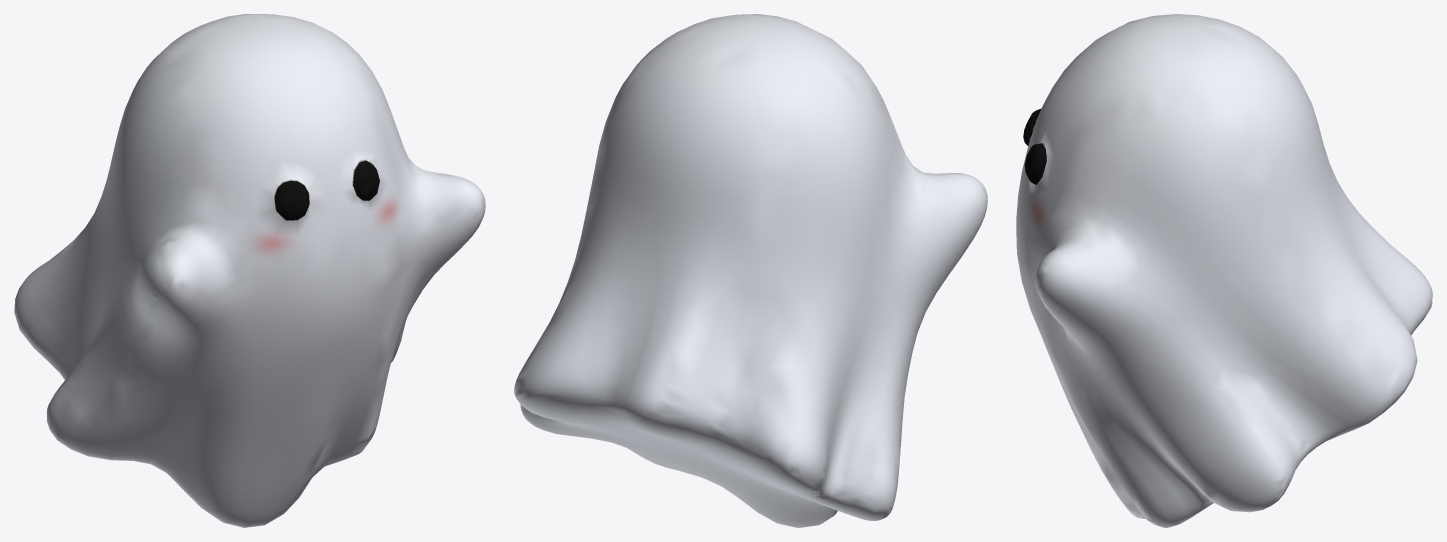
File: enemy.glb
3 views of the same model, side by side, from view 1: azimuth 30°, elevation 25°; view 2: azimuth 150°, elevation 25°; view 3: azimuth 270°, elevation 25° (orthographic). The views are drawn at different scales.
Visible parts, largest first — view 1: Mesh_0; view 2: Mesh_0; view 3: Mesh_0.
Part boxes in pixels (bbox=[...]): Mesh_0: bbox=[14, 14, 485, 527]; Mesh_0: bbox=[514, 14, 987, 527]; Mesh_0: bbox=[1016, 14, 1432, 527].
Size of the model in its own units: 0.0903 by 0.12 by 0.0918.
Materials: 1 (1 with a texture image).
